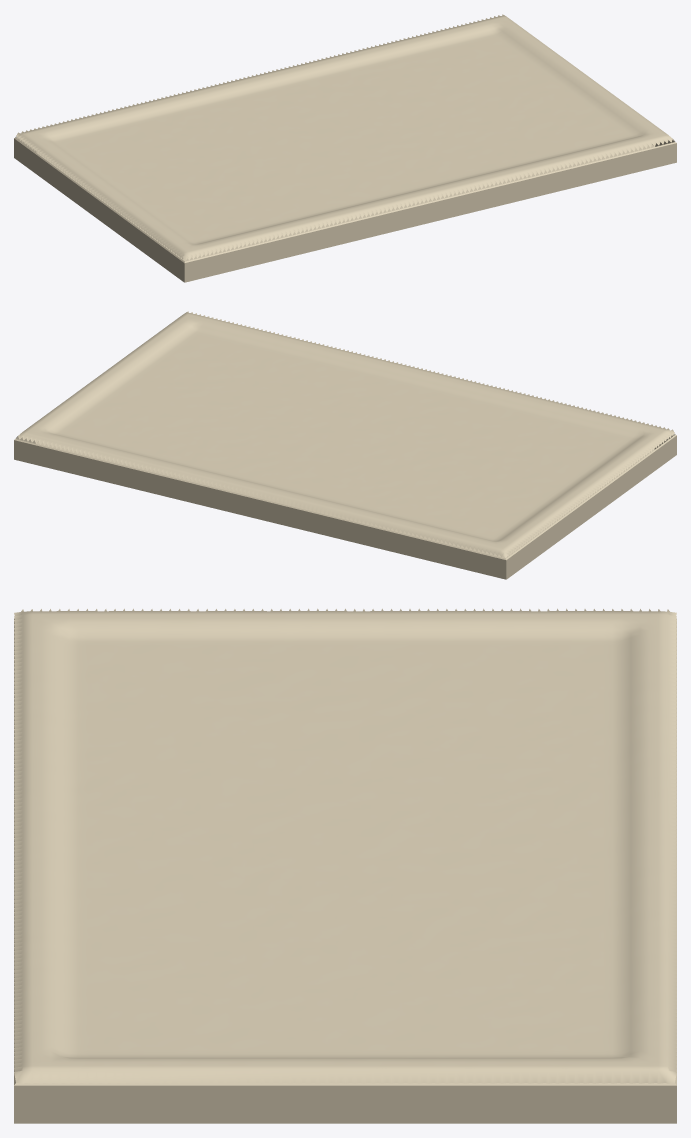
The model's file is mahsulot.glb.
3 renders of one model, top to bottom at view 1: azimuth 30°, elevation 25°; view 2: azimuth 150°, elevation 25°; view 3: azimuth 270°, elevation 25°, orthographic. The views are drawn at different scales.
Visible parts, largest first — view 1: mahsulot; view 2: mahsulot; view 3: mahsulot.
Part boxes in pixels (x1,y1,x2,y2): mahsulot: (14, 14, 676, 282); mahsulot: (14, 311, 676, 579); mahsulot: (14, 608, 676, 1123).
Bounding box in the file's own units: 0.8 × 0.0399 × 0.48.
